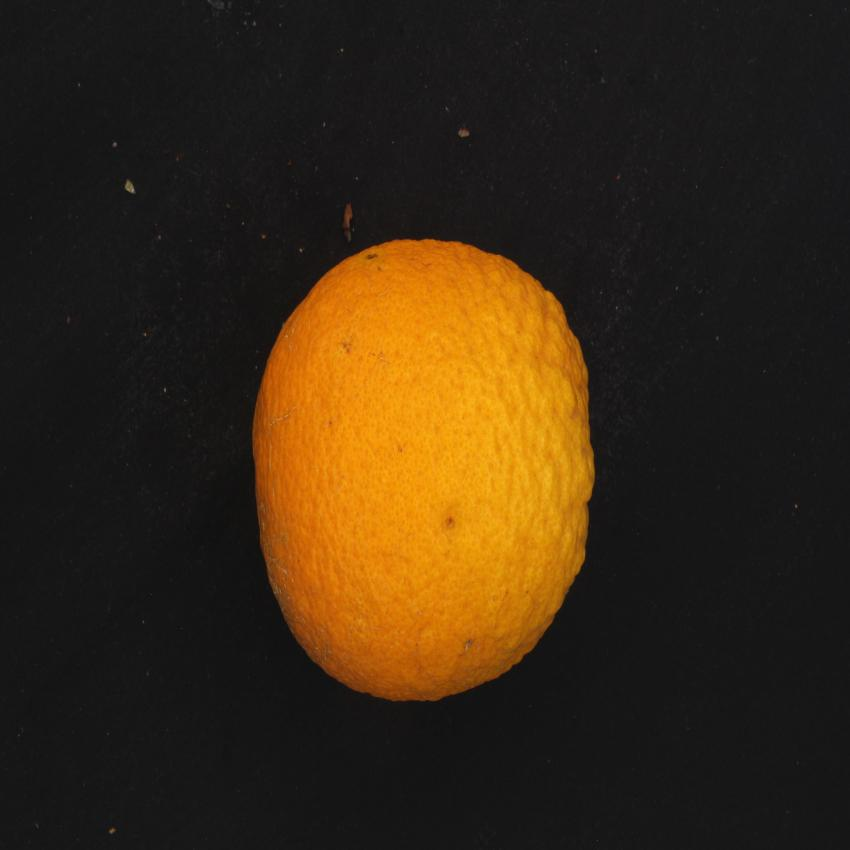Buen estado: (246, 210, 602, 717)
